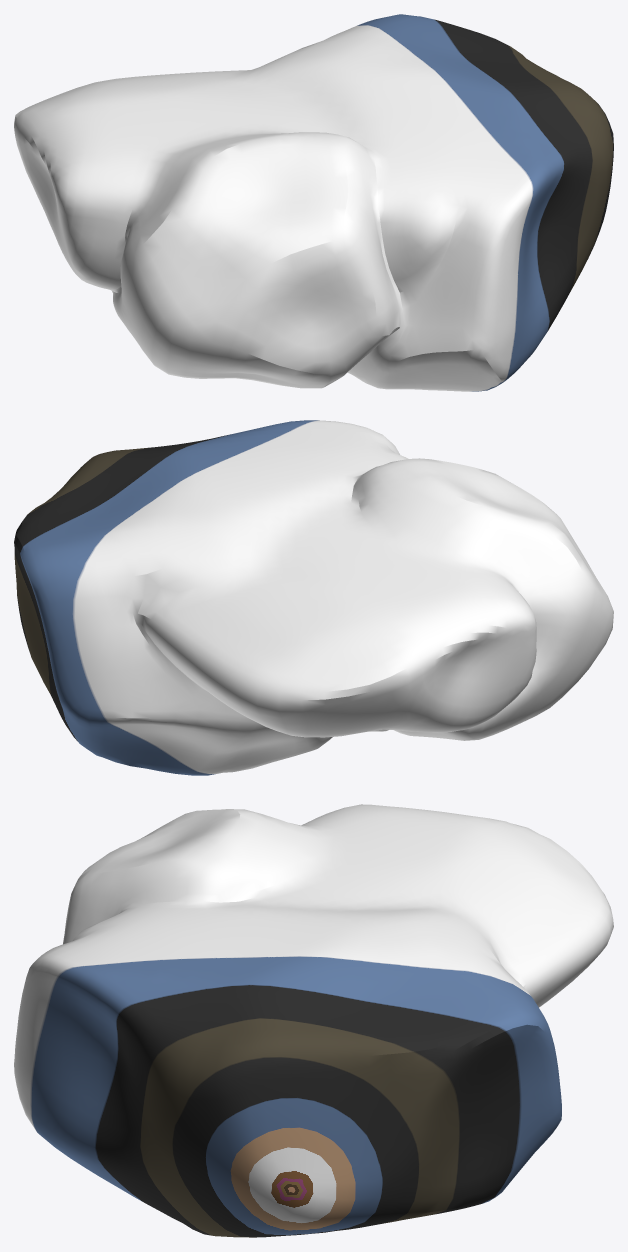
File: cliff0.obj
3 views of the same model, one above another, from view 1: azimuth 30°, elevation 25°; view 2: azimuth 150°, elevation 25°; view 3: azimuth 270°, elevation 25° (orthographic). The views are drawn at different scales.
Visible parts, largest first — view 1: Environment_Cliff1_mesh.006; view 2: Environment_Cliff1_mesh.006; view 3: Environment_Cliff1_mesh.006.
Part boxes in pixels (<box>): Environment_Cliff1_mesh.006: <box>14,14,613,391</box>; Environment_Cliff1_mesh.006: <box>14,420,613,775</box>; Environment_Cliff1_mesh.006: <box>14,804,613,1237</box>.
Size of the model in its own units: 5.63 by 2.96 by 5.41.
1 material, 1 textured.
